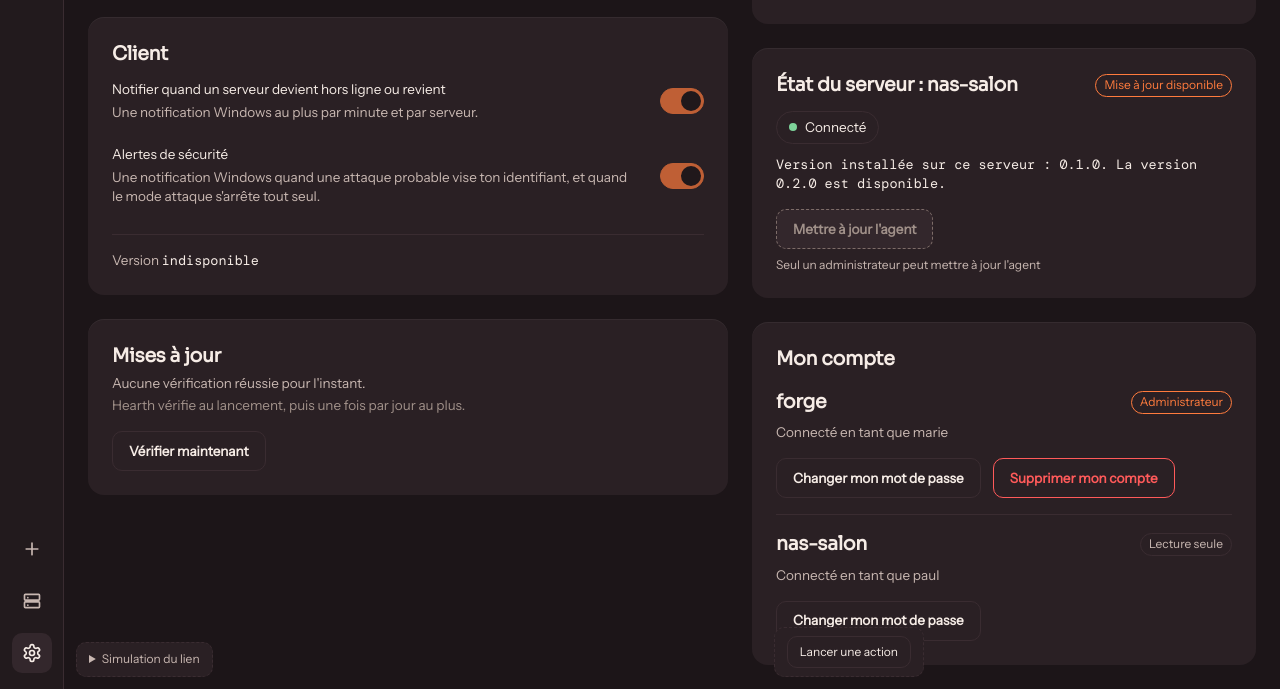
Scenario: Case « Garder ce poste reconnu » › sends true when ticked, and starts unticked again at the next opening
(page scrolled)
Click the button "Changer mon mot de passe" below "Connecté en tant que marie": x=878, y=478 x1=776 y1=458 x2=981 y2=498
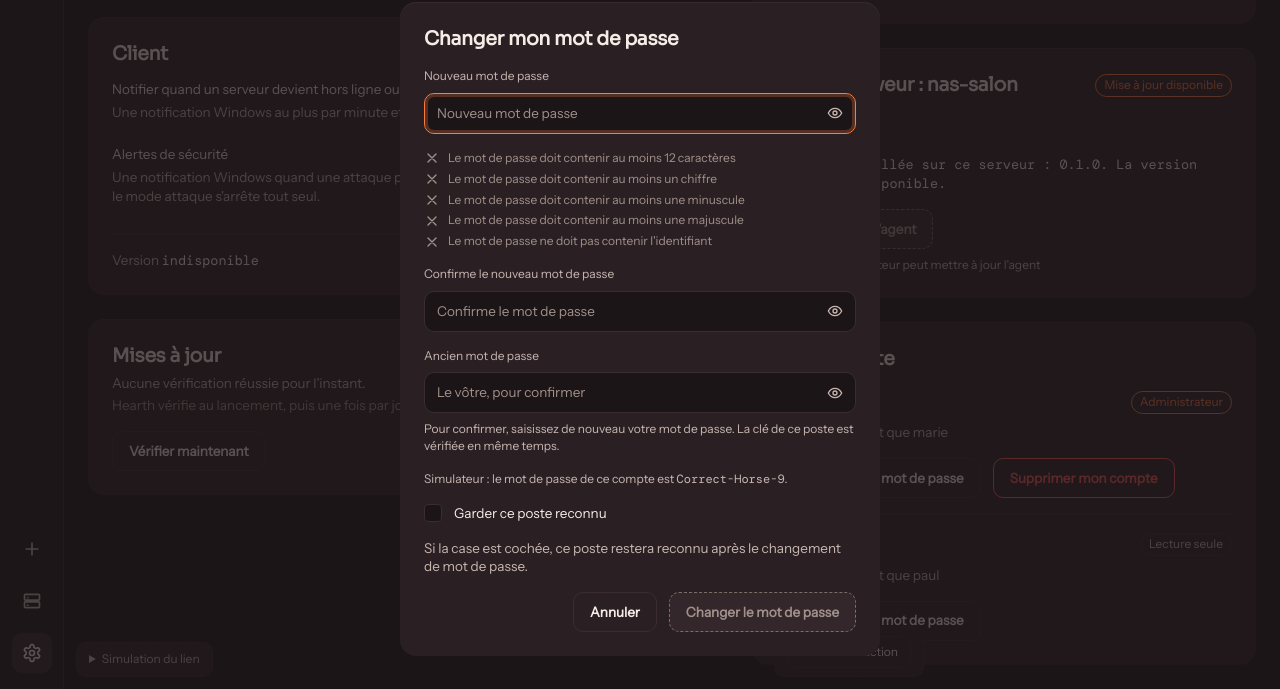
Click the checkbox labelled "Garder ce poste reconnu": x=433, y=513 x1=424 y1=504 x2=442 y2=522
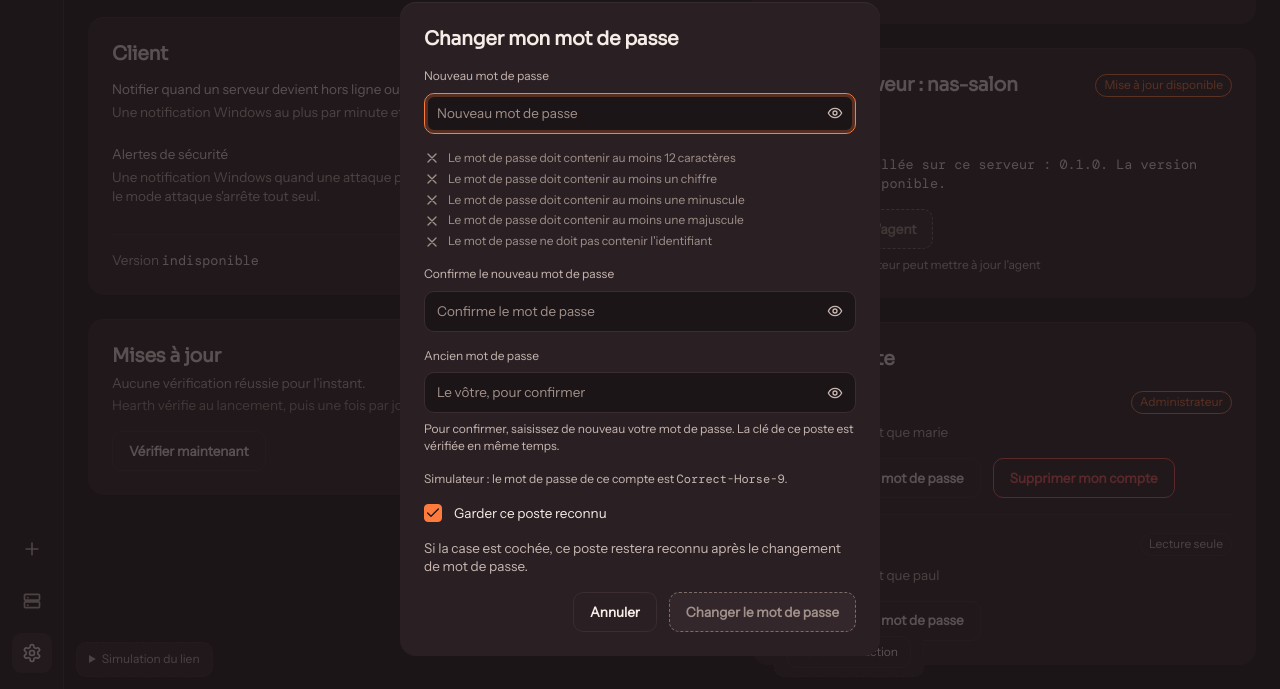
Now the checkbox labelled "Garder ce poste reconnu" is checked, box x1=424 y1=504 x2=442 y2=522
In the password field labelled "Ancien mot de passe": x=620, y=393 x1=425 y1=373 x2=815 y2=412, type "Correct-Horse-9"
In the password field with placeholder "Nouveau mot de passe": x=620, y=113 x1=425 y1=94 x2=815 y2=133, type "Another-Long-Pass-91"
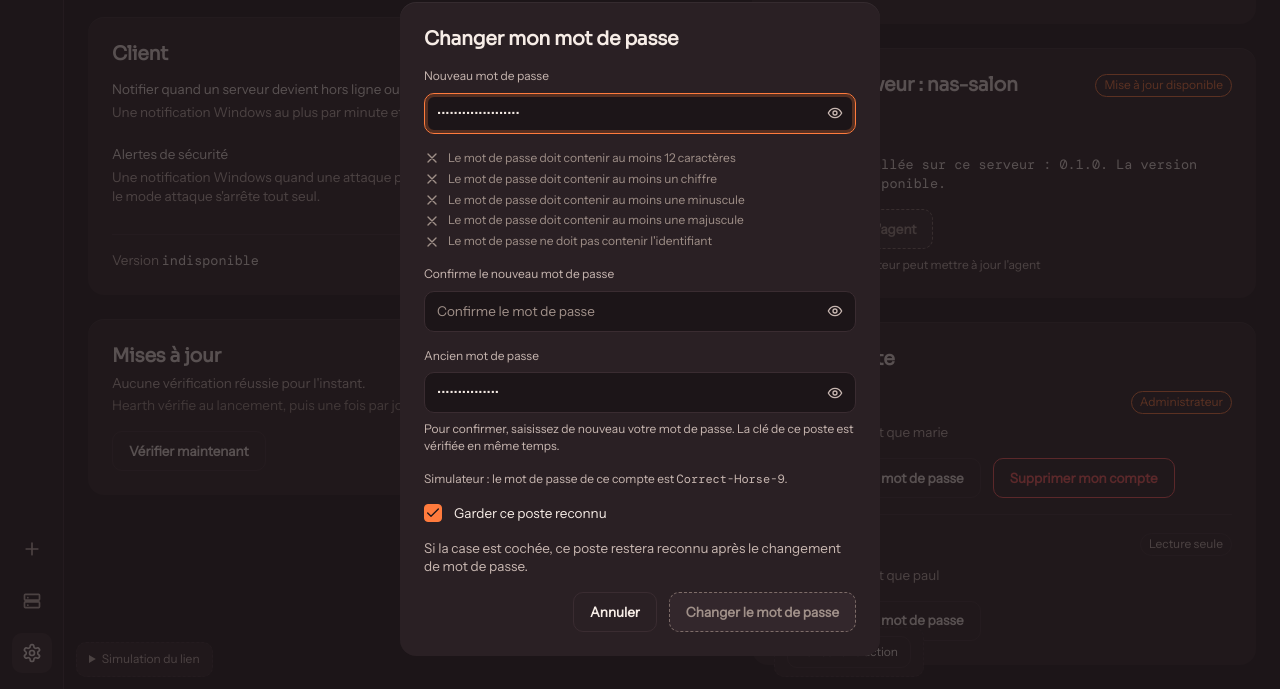
In the password field with placeholder "Confirme le mot de passe": x=620, y=311 x1=425 y1=292 x2=815 y2=331, type "Another-Long-Pass-91"
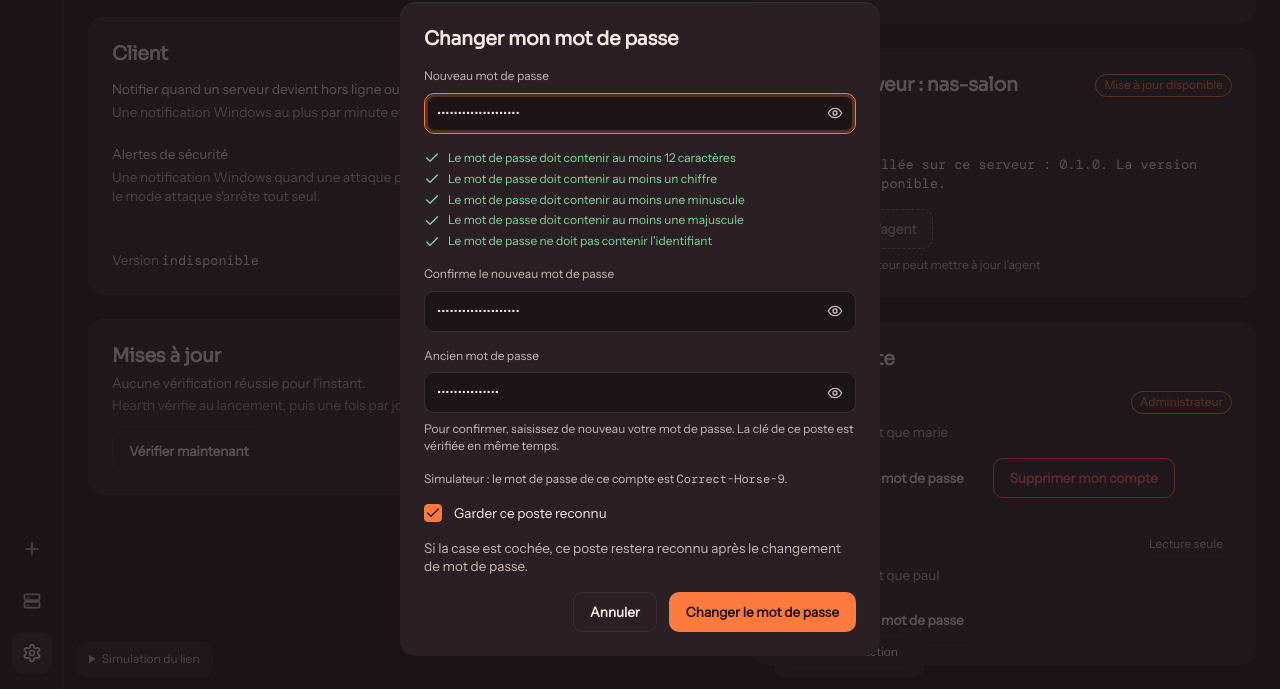
Click the submit button: x=762, y=612 x1=669 y1=592 x2=856 y2=632
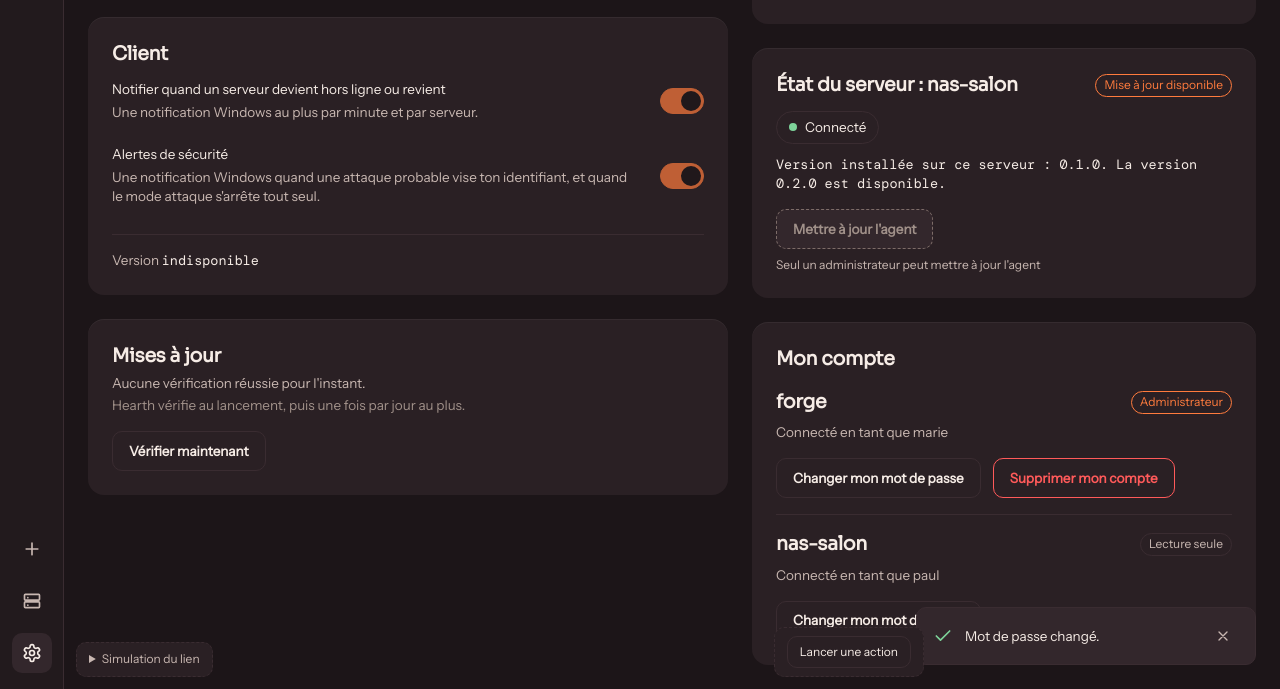
Click the button "Changer mon mot de passe" below "Connecté en tant que marie": x=878, y=478 x1=776 y1=458 x2=981 y2=498
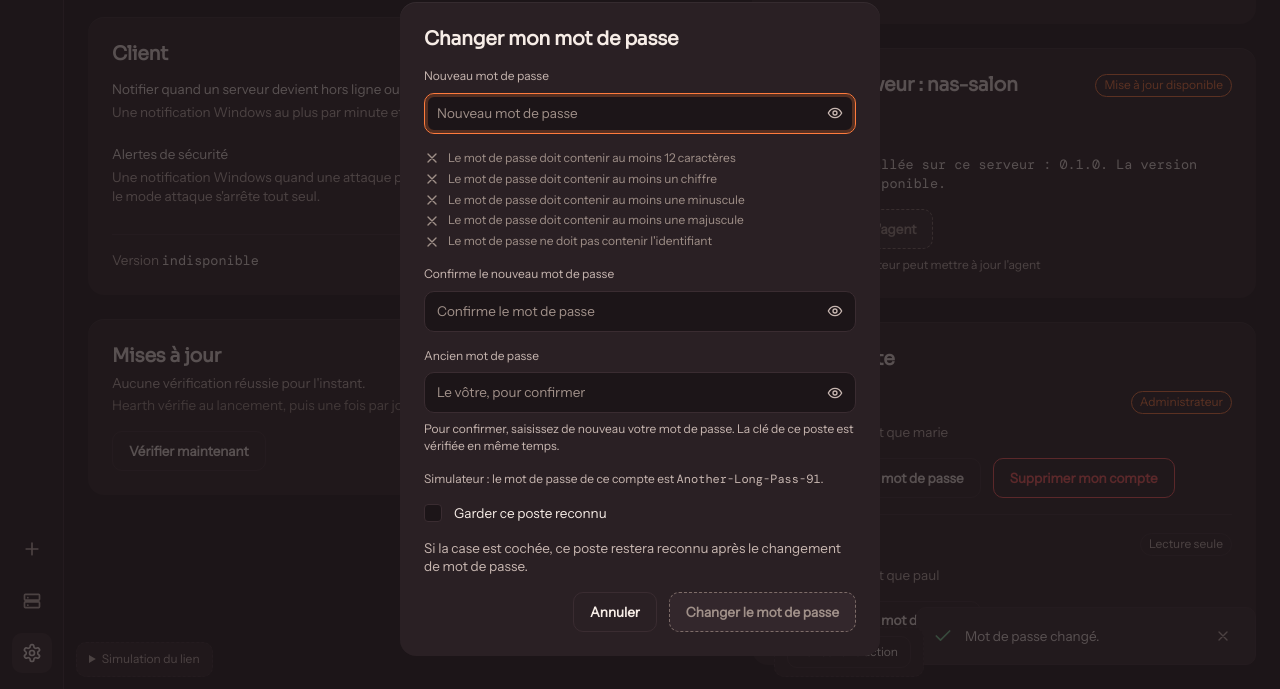
Now the checkbox labelled "Garder ce poste reconnu" is not checked, box x1=424 y1=504 x2=442 y2=522
